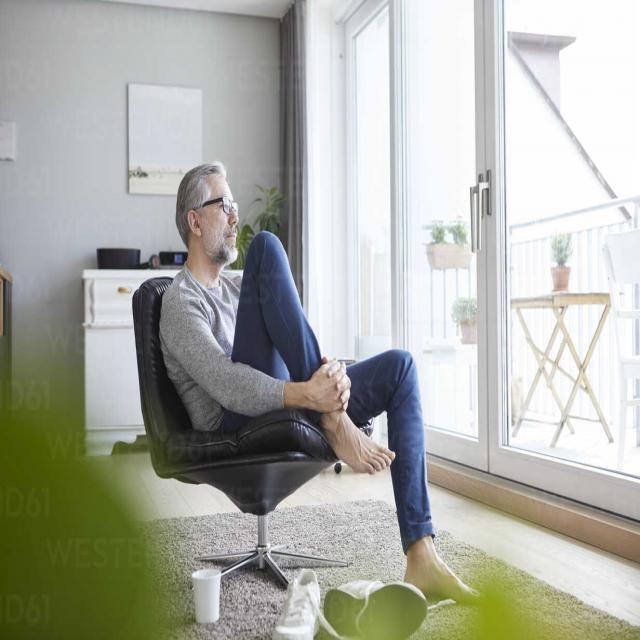sitting: (148, 155, 487, 611)
